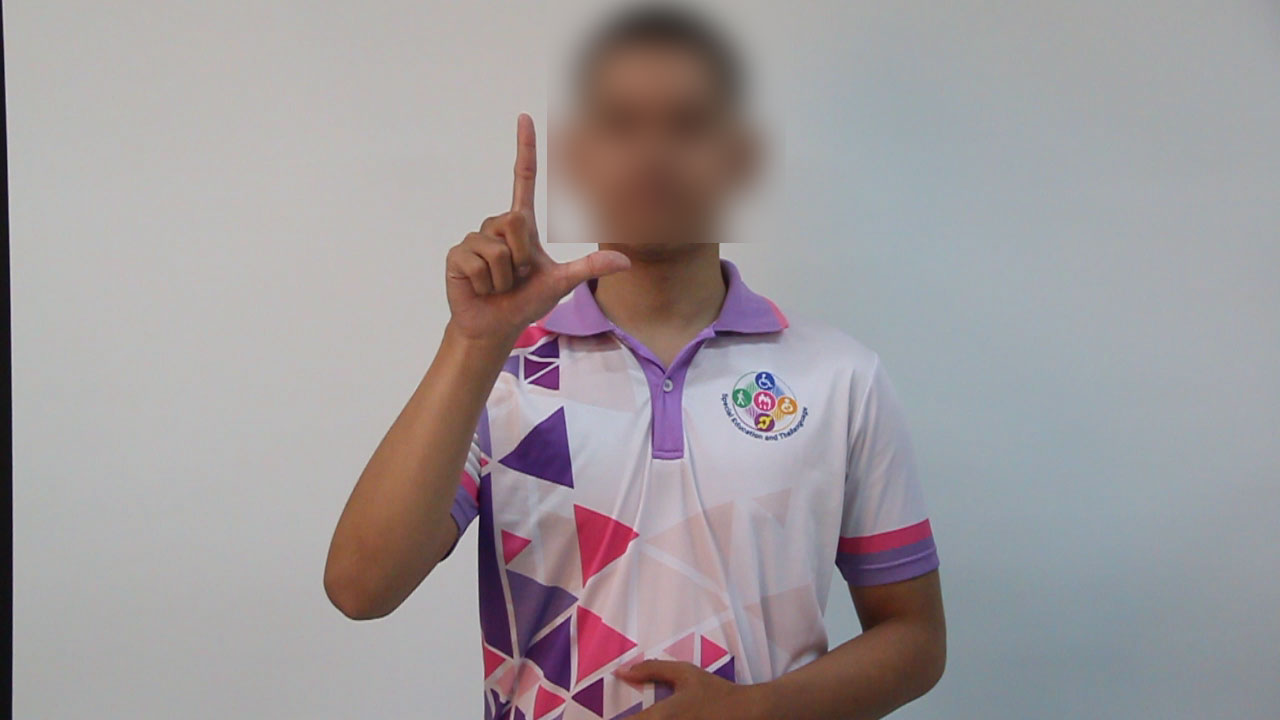lor: (435, 75, 651, 398)
